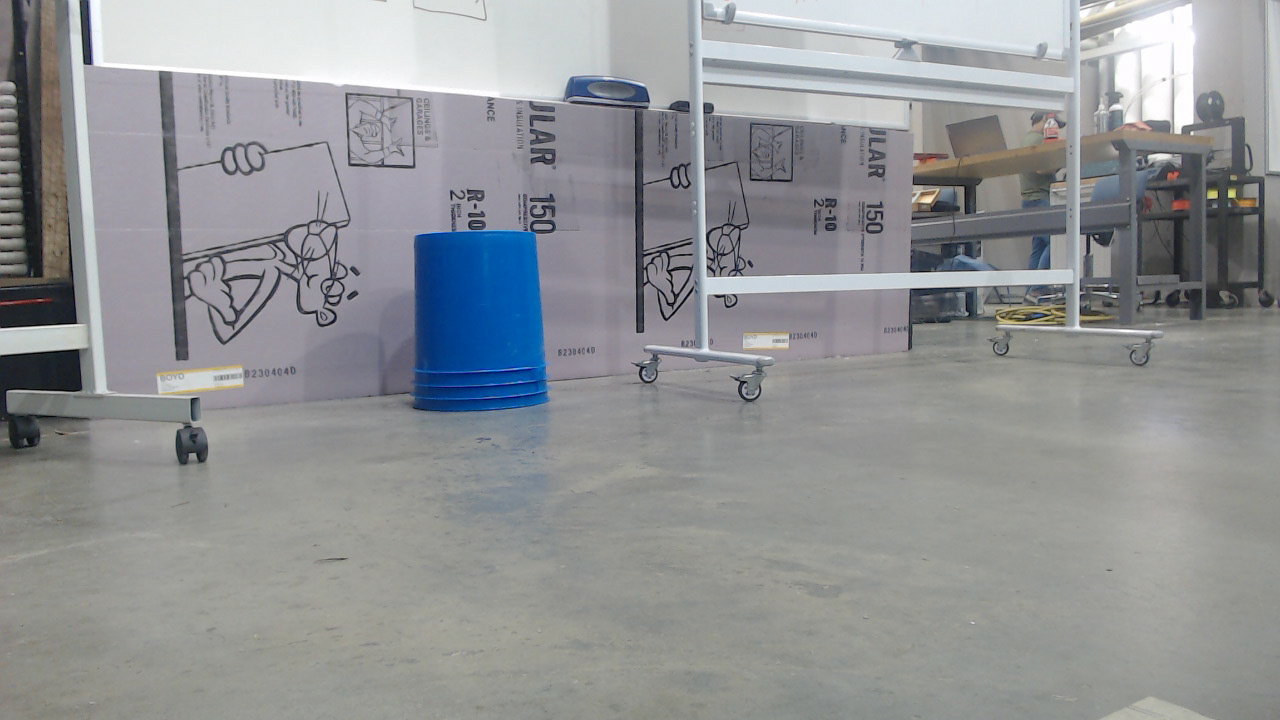blue_bucket: (410, 232, 561, 420)
